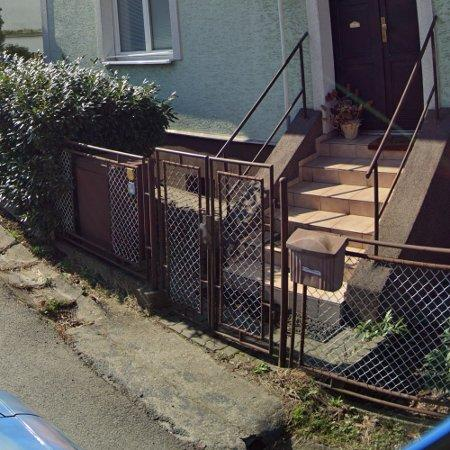stairs: (289, 133, 379, 239), (309, 258, 359, 341), (381, 150, 405, 204), (275, 207, 280, 302)
